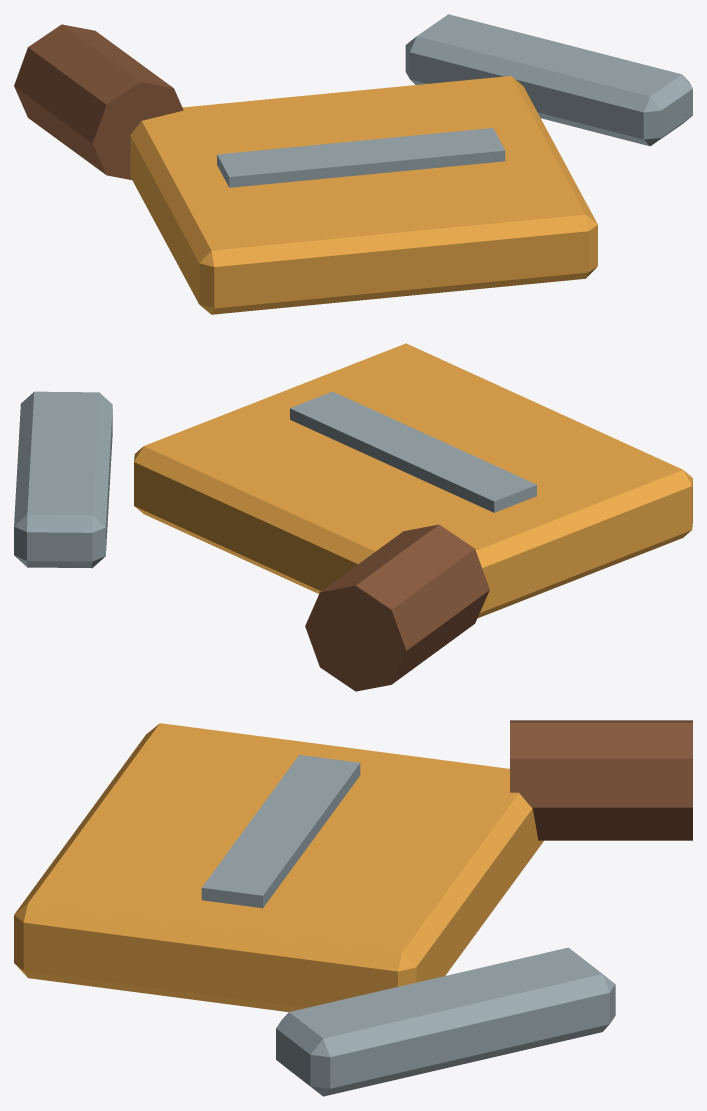
File: materials_depleted_0.glb
The picture shows the model from 3 angles, top to bottom: view 1: azimuth 30°, elevation 25°; view 2: azimuth 150°, elevation 25°; view 3: azimuth 270°, elevation 25°; orthographic projection. The views are drawn at different scales.
Parts seen in each view (by area): view 1: materials_depleted_0; view 2: materials_depleted_0; view 3: materials_depleted_0.
Boxes of the visible parts, x1,y1,x2,y2 form: materials_depleted_0: [14, 14, 692, 314]; materials_depleted_0: [14, 343, 692, 691]; materials_depleted_0: [14, 720, 692, 1096].
Size of the model in its own units: 0.4117 by 0.0725 by 0.3709.
